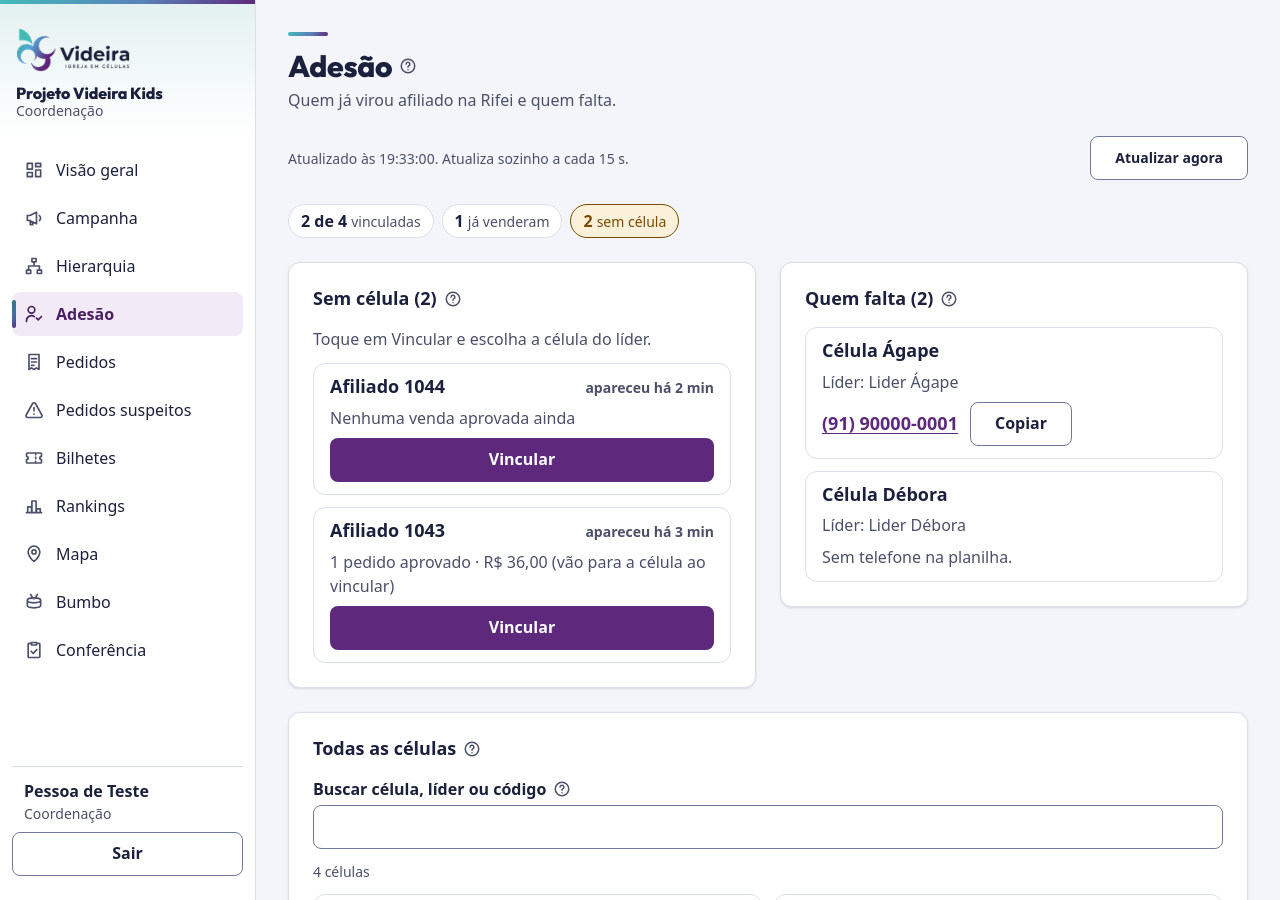
Test case: CA4: vincular, trocar, desvincular e pré-cadastrar › Vincular: escolhe a célula com busca; o afiliado sai de 'Sem célula' e as vendas vão para a célula
Expected: the text "Atualizado às 19:33:00. Atualiza sozinho a cada 15 s." is shown, x1=288 y1=148 x2=629 y2=168
Click the button named "Vincular o afiliado 1043" at (522, 628), box x1=330 y1=606 x2=714 y2=650
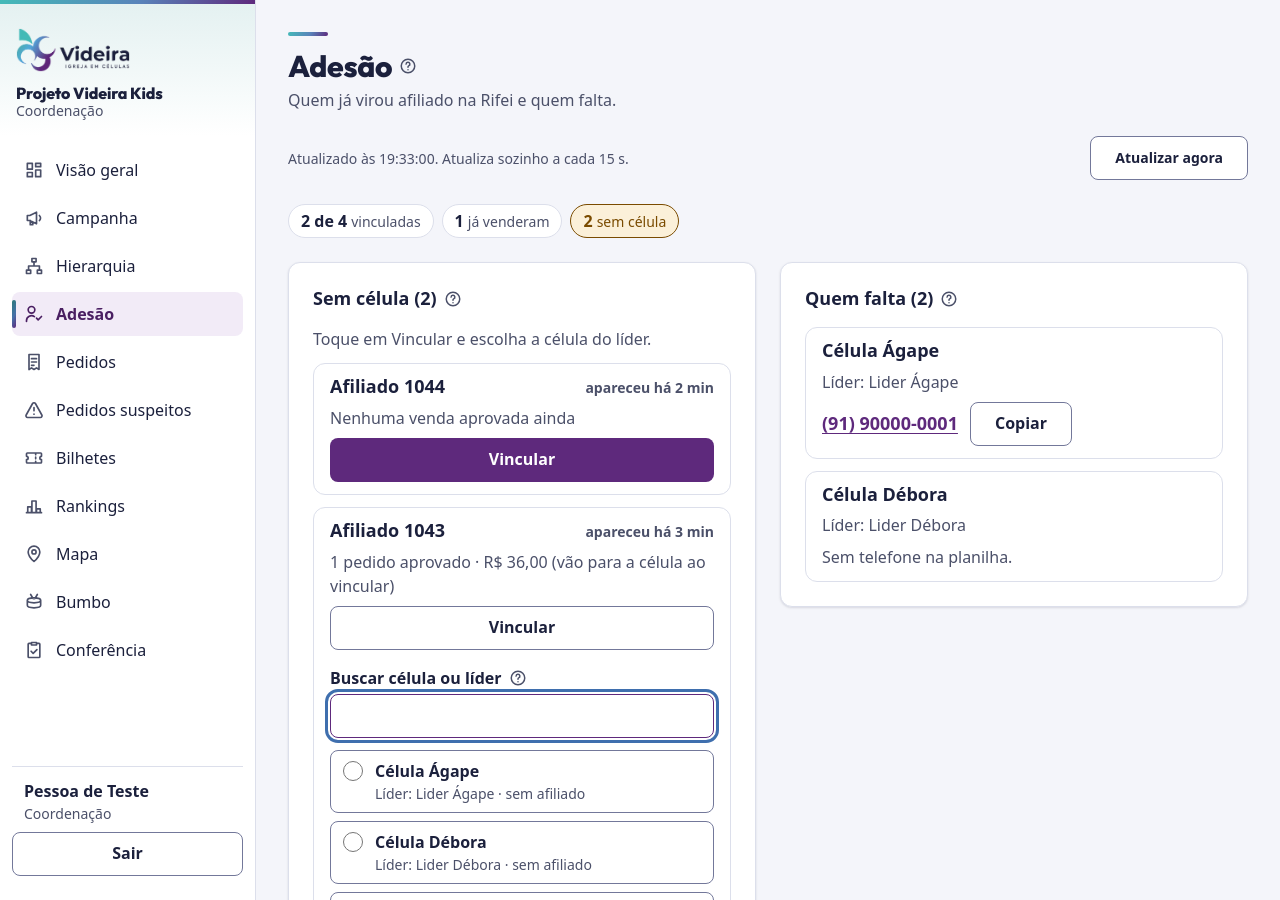
Now the button named "Vincular o afiliado 1043" is expanded, box x1=330 y1=606 x2=714 y2=650
Type "agape" into the search field labelled "Buscar célula ou líder" at (522, 716), box x1=330 y1=694 x2=714 y2=738
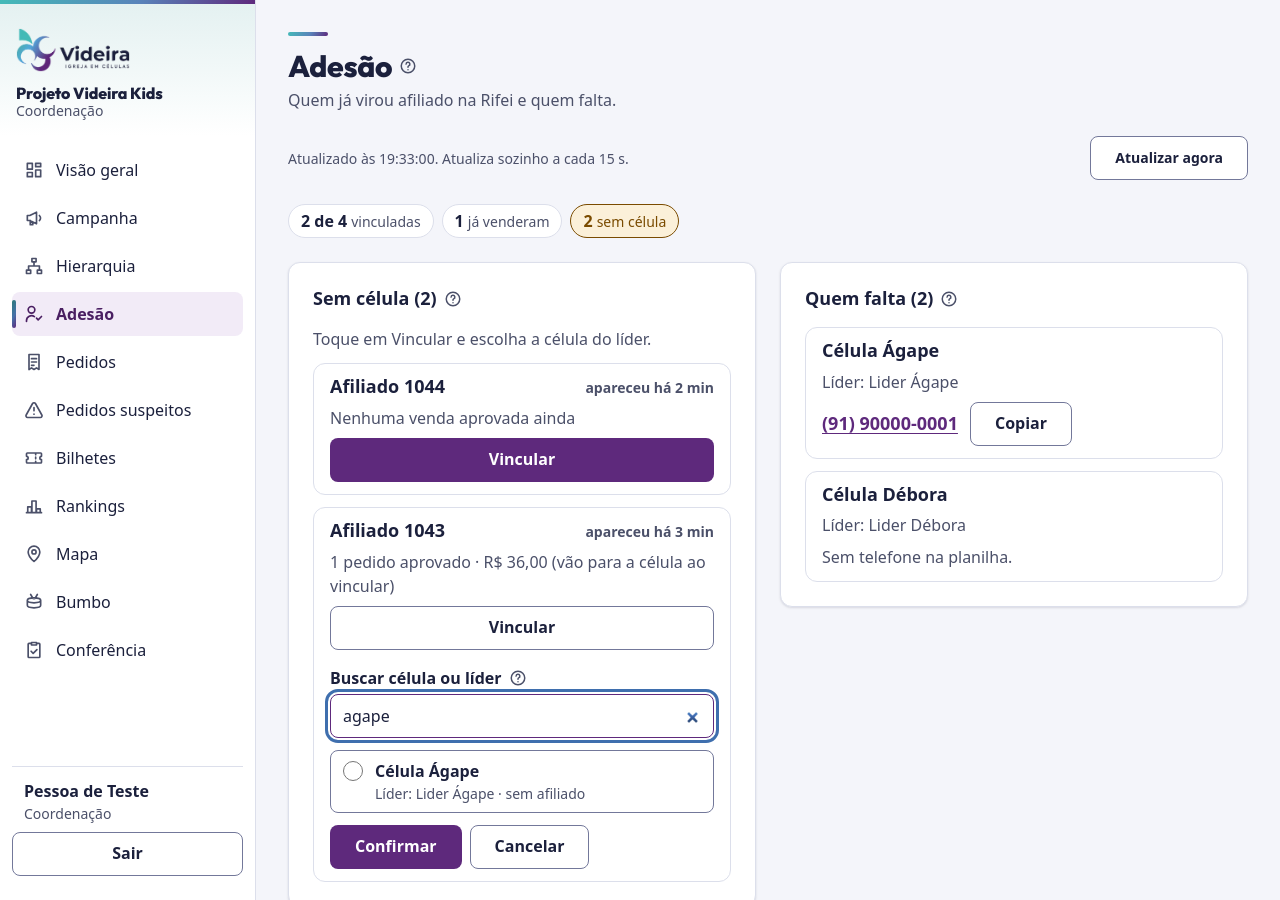
Now the number of radio buttons is 1
Click the radio button at (353, 771), box x1=343 y1=761 x2=363 y2=781
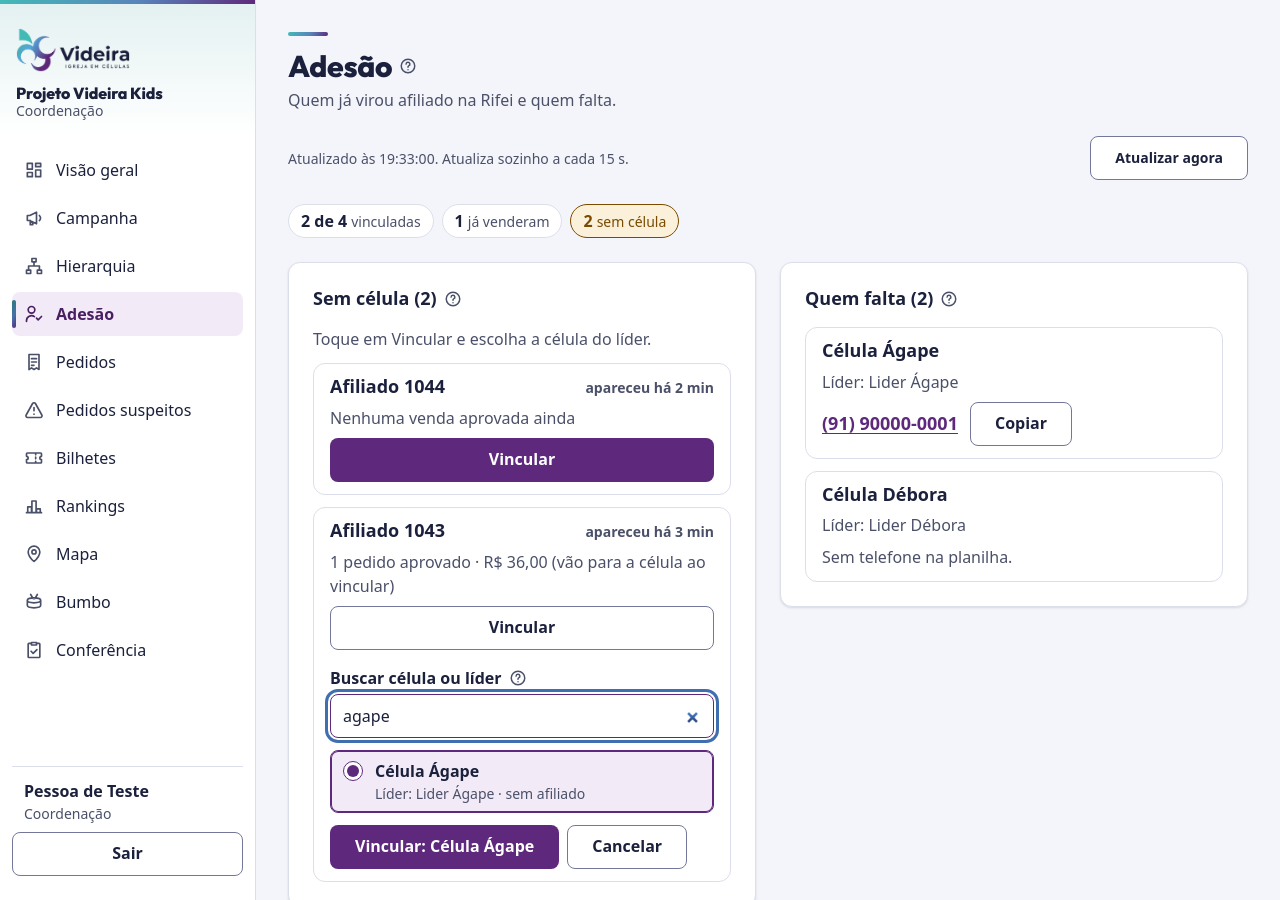
Click the button "Vincular: Célula Ágape" at (445, 847), box x1=330 y1=825 x2=559 y2=869
(page scrolled)
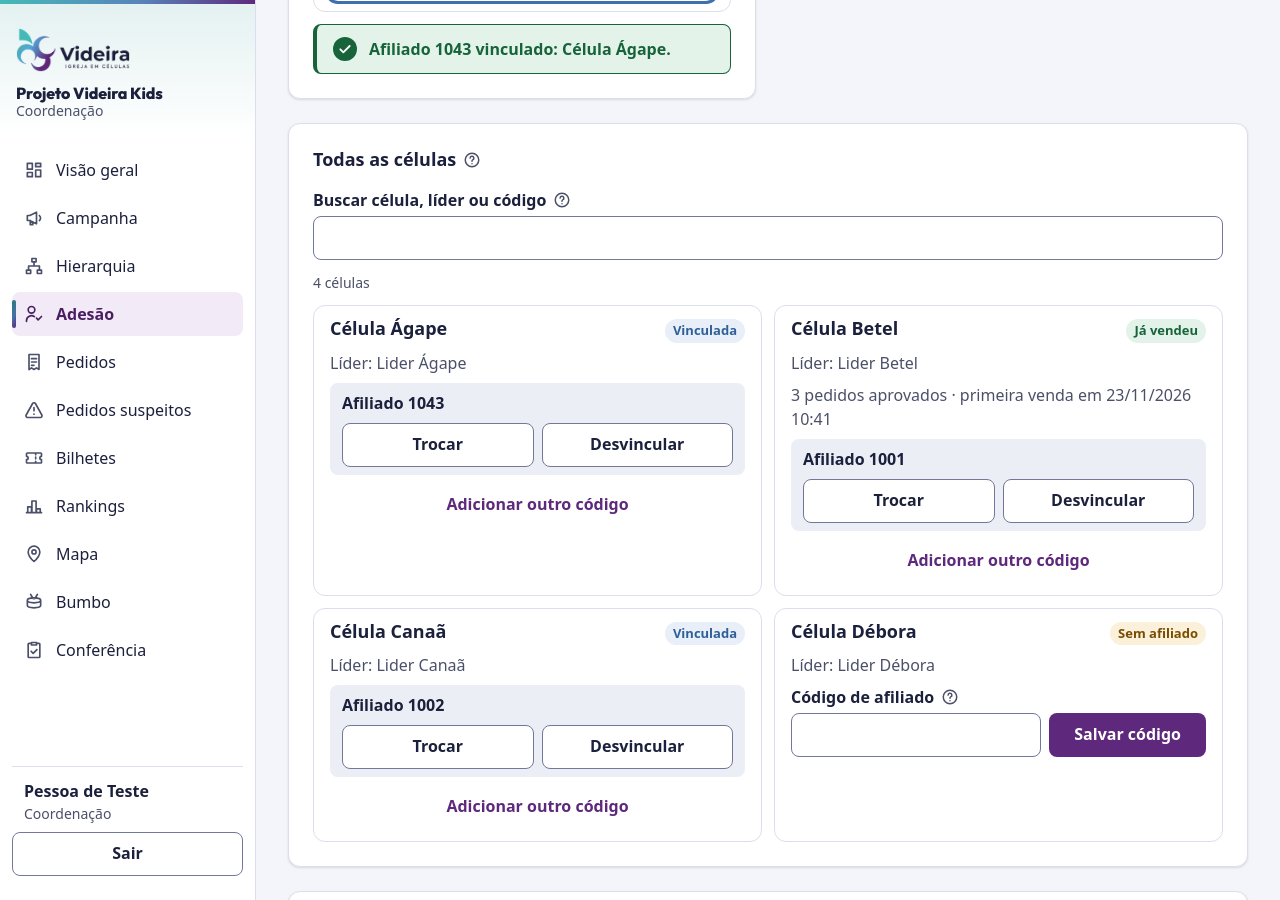
Now the text "Afiliado 1043 vinculado: Célula Ágape." is shown, box x1=369 y1=37 x2=702 y2=61
Now the element "Célula Ágape" shows "Vinculada", box x1=673 y1=321 x2=737 y2=339
Now the element "Célula Ágape" shows "Afiliado 1043", box x1=313 y1=305 x2=762 y2=596
